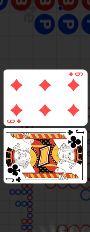6D: (6, 118, 23, 124)
JC: (6, 176, 23, 183)
